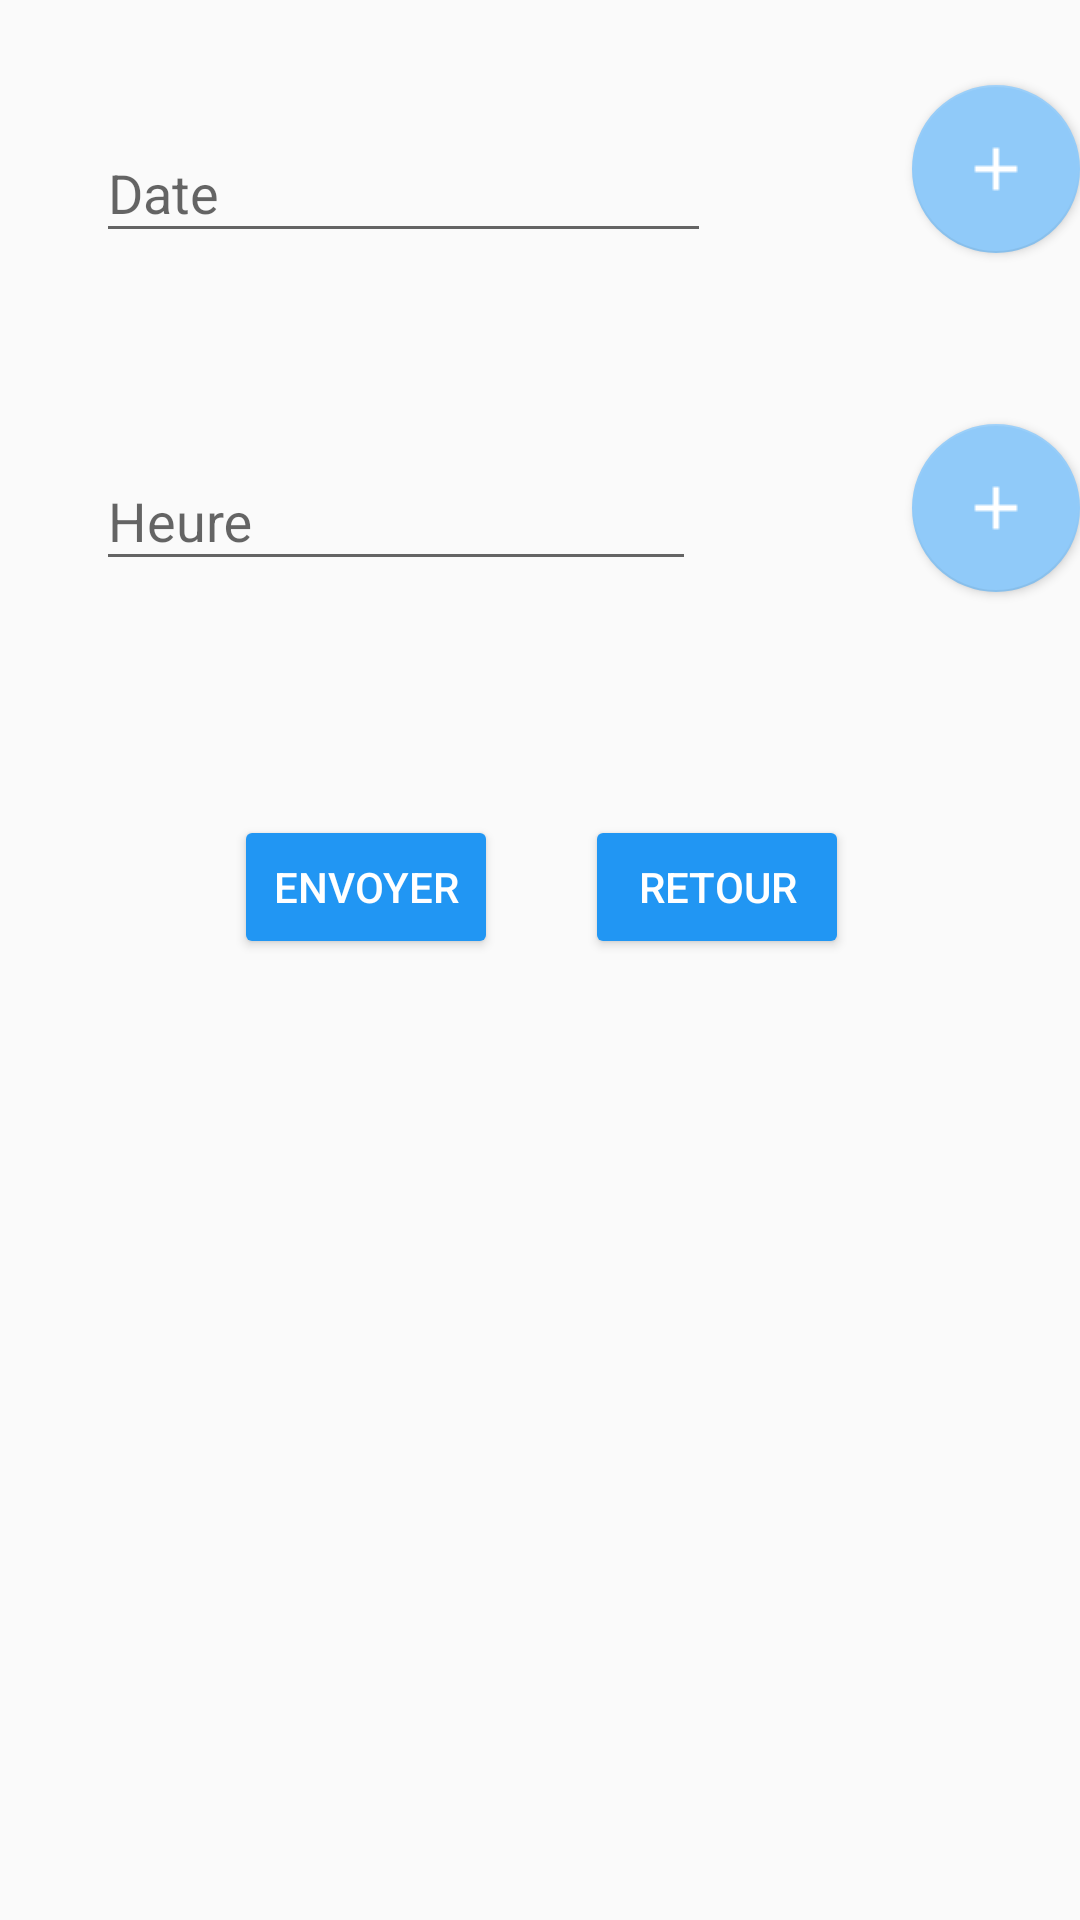

Named icons in this screenshot (1080 × 1920) and their centers, [x,y]:
plus: [996,169], [996,508]
